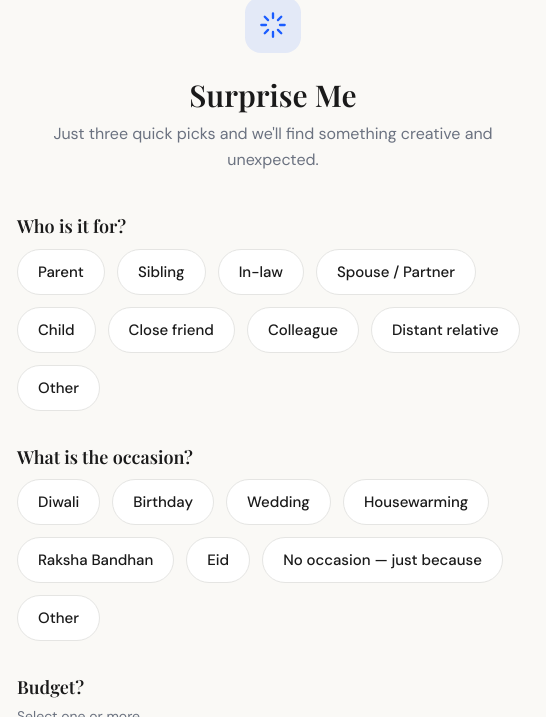
SurpriseMePage › submit button enables after selecting relationship + occasion + budget
Step 1. Click the button "Close friend" → (171, 330), box [108,307,235,353]
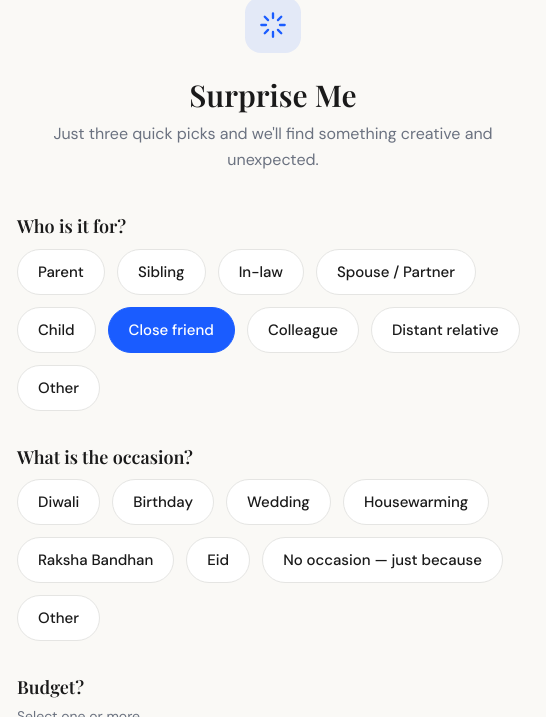
Step 2. Click the button "Birthday" → (163, 502), box [112,479,214,525]
(page scrolled)
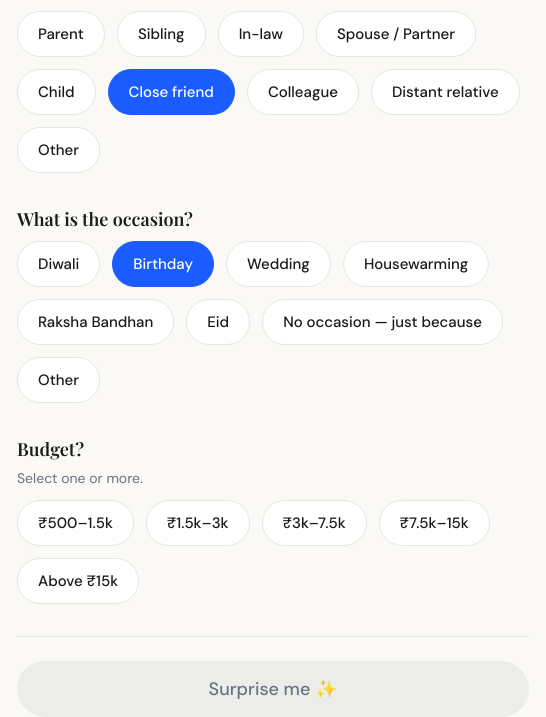
Step 3. Click the button "₹3k–7.5k" → (314, 523), box [262,500,366,546]
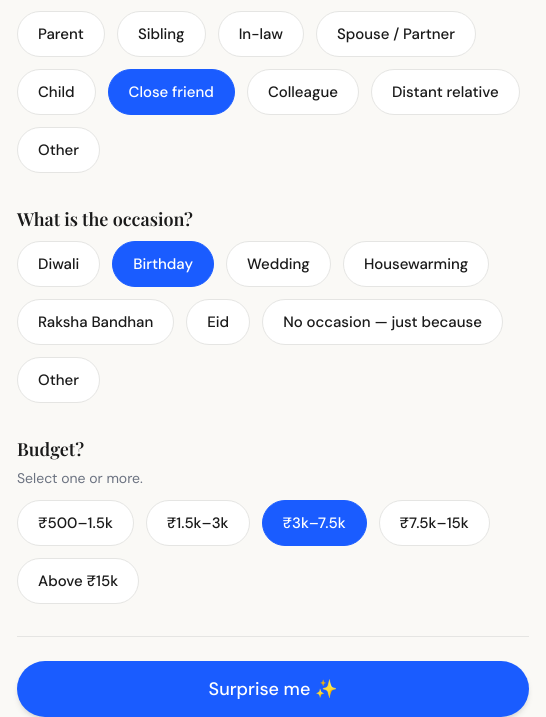
Result: the button "Surprise me ✨" is enabled at [17,661,529,716]
